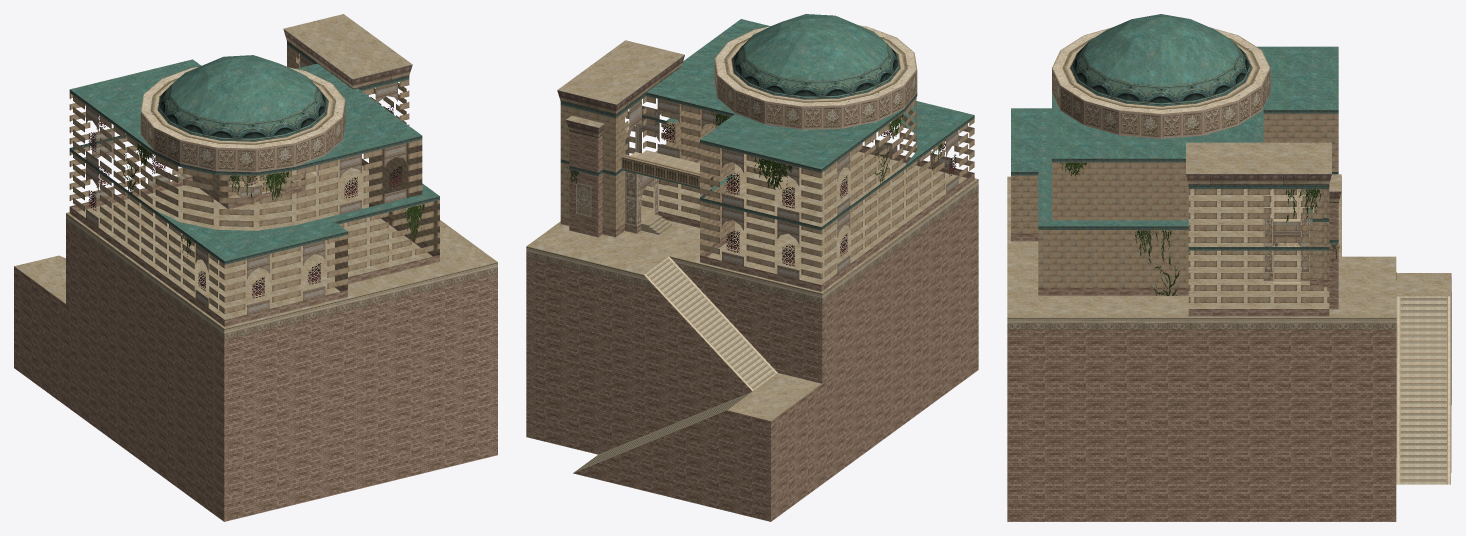
Rendered from ply_nboo_house_m_s01_fp1_r0_mesh_l1.fbx.
3 views of the same model, side by side, from view 1: azimuth 30°, elevation 25°; view 2: azimuth 150°, elevation 25°; view 3: azimuth 270°, elevation 25° (orthographic). The views are drawn at different scales.
Visible parts, largest first — view 1: mesh_node; view 2: mesh_node; view 3: mesh_node.
Part boxes in pixels (x1,y1,x2,y2): mesh_node: (14, 14, 497, 521); mesh_node: (526, 14, 978, 521); mesh_node: (1007, 14, 1451, 521).
Size of the model in its own units: 24.45 by 32.49 by 32.53.
